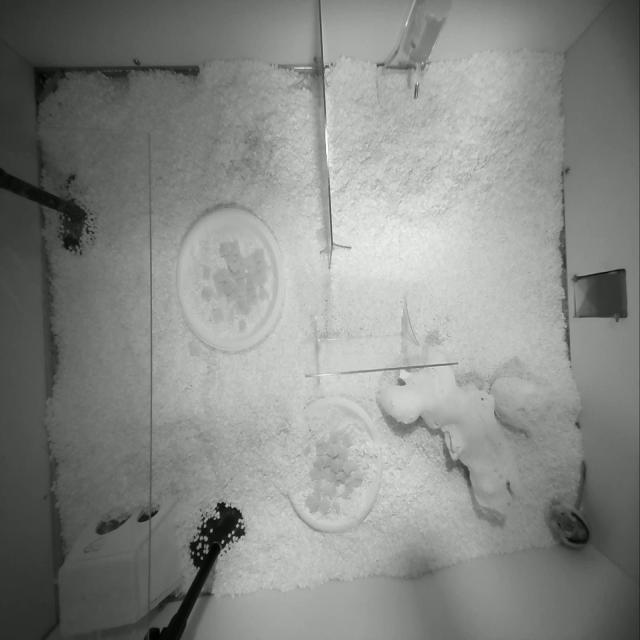pup_h_stripe: (545, 460, 590, 549)
